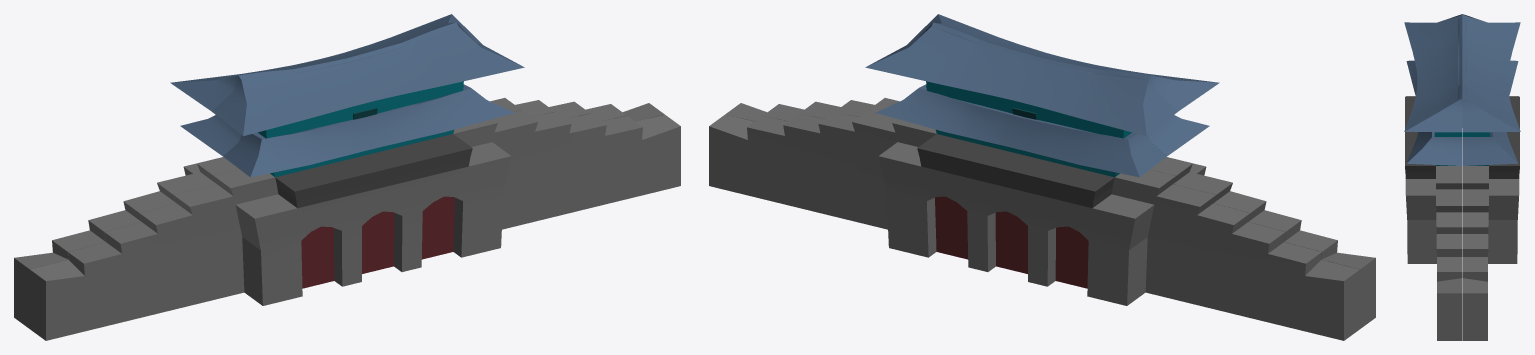
Rendered from Gwanghwamun.fbx.
3 renders of one model, left to right at view 1: azimuth 30°, elevation 25°; view 2: azimuth 150°, elevation 25°; view 3: azimuth 270°, elevation 25°, orthographic. The views are drawn at different scales.
Visible parts, largest first — view 1: Gwanghwamun; view 2: Gwanghwamun; view 3: Gwanghwamun.
Boxes of the visible parts, bbox=[...] form: Gwanghwamun: bbox=[14, 14, 680, 340]; Gwanghwamun: bbox=[709, 14, 1375, 340]; Gwanghwamun: bbox=[1404, 14, 1520, 340].
Bounding box in the file's own units: 2000 × 611 × 399.
Materials: 1 (1 with a texture image).
